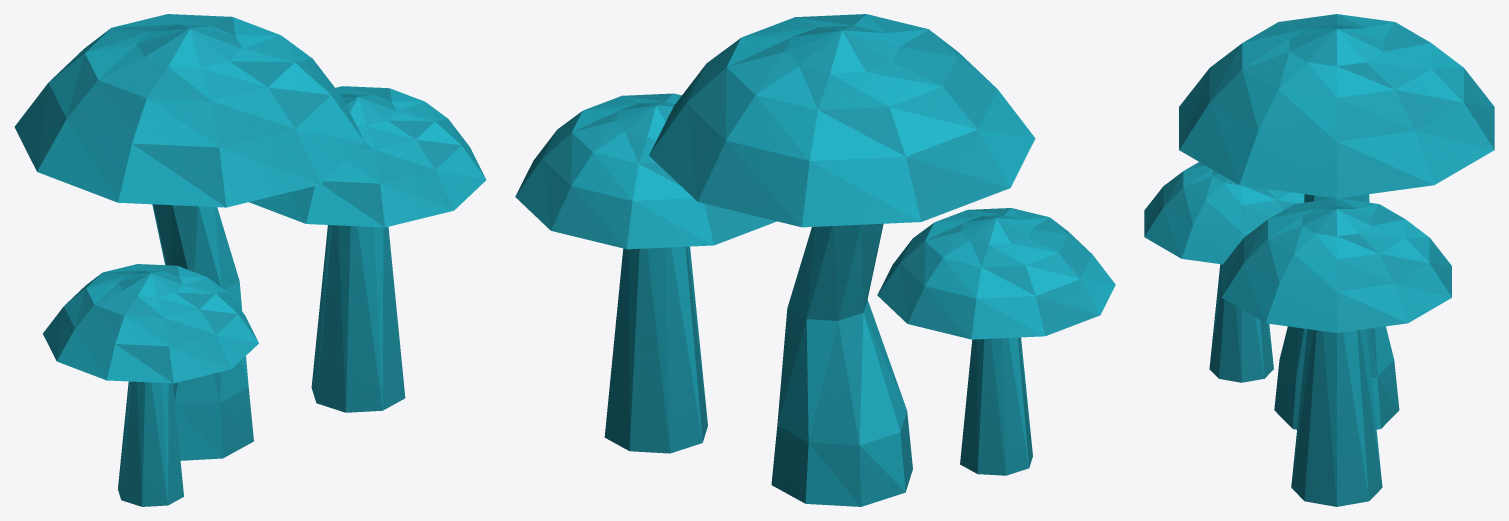
File: Mushroom_Gr_4A.fbx
3 views of the same model, side by side, from view 1: azimuth 30°, elevation 25°; view 2: azimuth 150°, elevation 25°; view 3: azimuth 270°, elevation 25° (orthographic). The views are drawn at different scales.
Visible parts, largest first — view 1: polySurface694; view 2: polySurface694; view 3: polySurface694.
Part boxes in pixels (x1=…): polySurface694: x1=14, y1=14, x2=486, y2=506; polySurface694: x1=515, y1=14, x2=1115, y2=506; polySurface694: x1=1144, y1=14, x2=1494, y2=506.
Bounding box in the file's own units: 169 × 141 × 118.
1 material, 1 textured.
